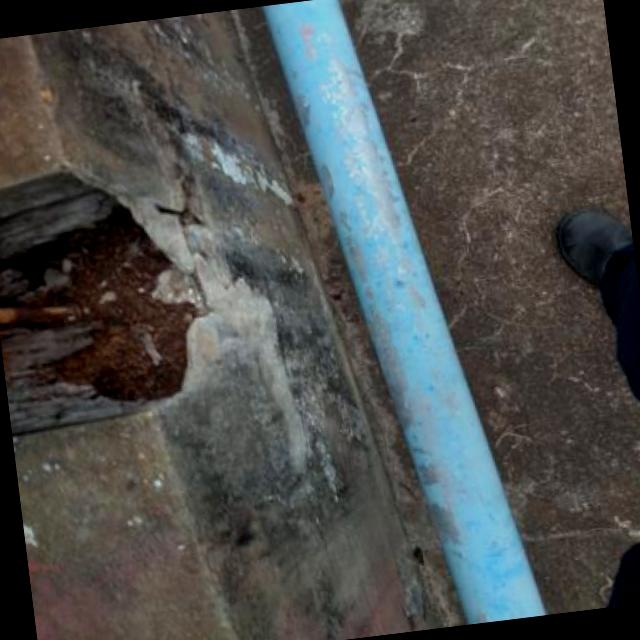gas: (257, 0, 547, 624)
